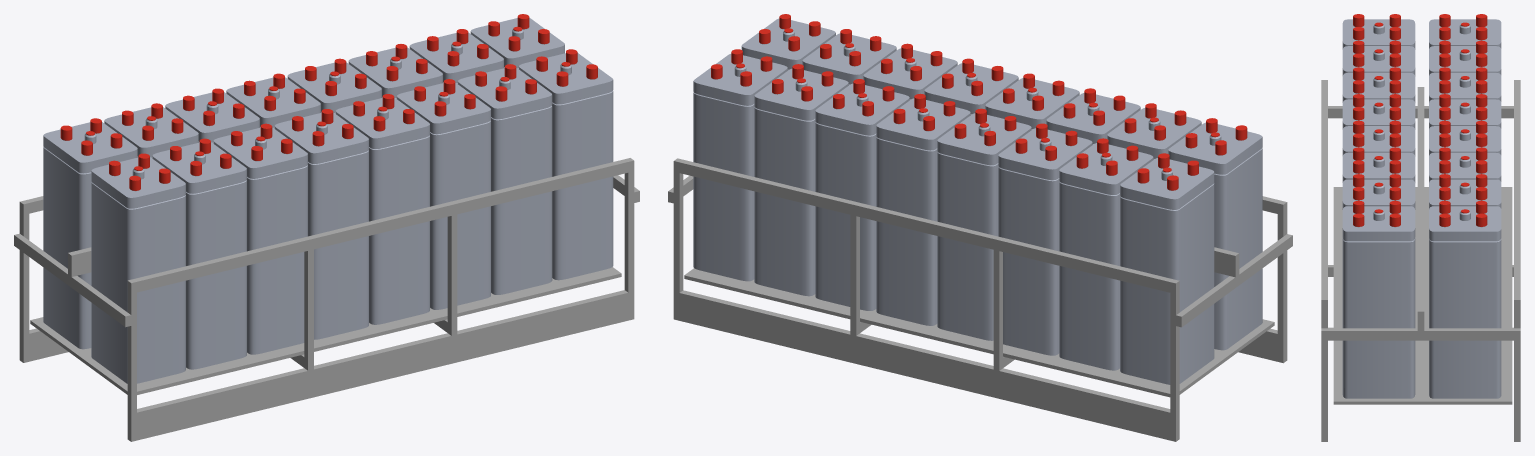
The picture shows the model from 3 angles, left to right: view 1: azimuth 30°, elevation 25°; view 2: azimuth 150°, elevation 25°; view 3: azimuth 270°, elevation 25°; orthographic projection. The views are drawn at different scales.
Visible parts, largest first — view 1: RM1-BH09W200D075_02, RM1-BH09W200D075; view 2: RM1-BH09W200D075_02, RM1-BH09W200D075; view 3: RM1-BH09W200D075_02, RM1-BH09W200D075.
Boxes of the visible parts, x1,y1,x2,y2 form: RM1-BH09W200D075_02: (43, 14, 613, 383); RM1-BH09W200D075: (14, 158, 639, 441); RM1-BH09W200D075_02: (693, 14, 1262, 384); RM1-BH09W200D075: (668, 158, 1292, 441); RM1-BH09W200D075_02: (1342, 14, 1501, 398); RM1-BH09W200D075: (1321, 80, 1520, 441).
Size of the model in its own units: 2 by 0.9 by 0.75.
